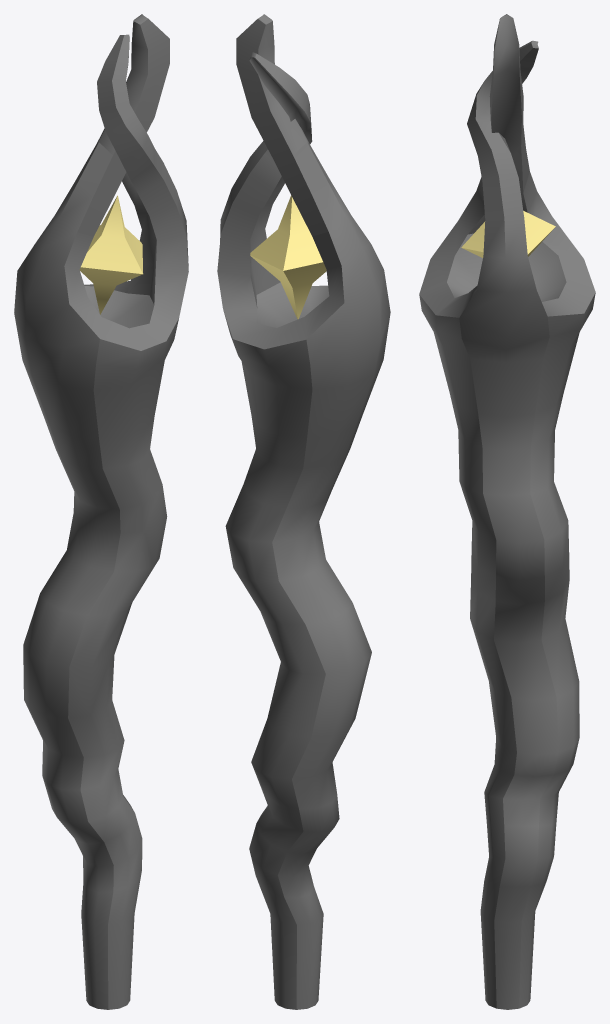
Rendered from Wizz_weapon_2.fbx.
3 renders of one model, left to right at view 1: azimuth 30°, elevation 25°; view 2: azimuth 150°, elevation 25°; view 3: azimuth 270°, elevation 25°, orthographic. The views are drawn at different scales.
Visible parts, largest first — view 1: Wizz_weapon_2; view 2: Wizz_weapon_2; view 3: Wizz_weapon_2.
Part boxes in pixels (x1=…): Wizz_weapon_2: x1=14, y1=14, x2=188, y2=1009; Wizz_weapon_2: x1=217, y1=14, x2=390, y2=1009; Wizz_weapon_2: x1=419, y1=14, x2=595, y2=1009.
Bounding box in the file's own units: 5.63 × 32.76 × 5.2.
